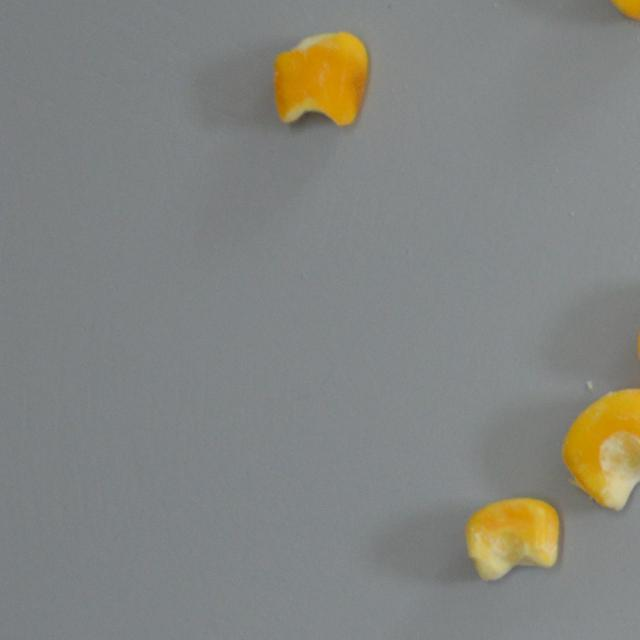no_canjicado: (271, 30, 368, 126)
pelicula: (560, 387, 640, 512), (462, 497, 558, 582)
